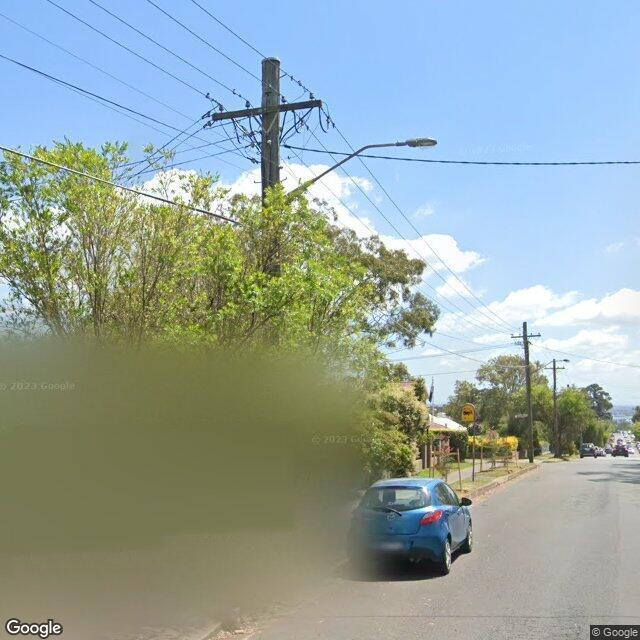crossarm: (211, 99, 324, 122), (511, 332, 542, 338), (543, 367, 566, 370)
streetlight: (282, 139, 438, 206), (529, 359, 570, 375)
timber-pole: (260, 56, 282, 282), (524, 321, 532, 463), (553, 359, 559, 457)
